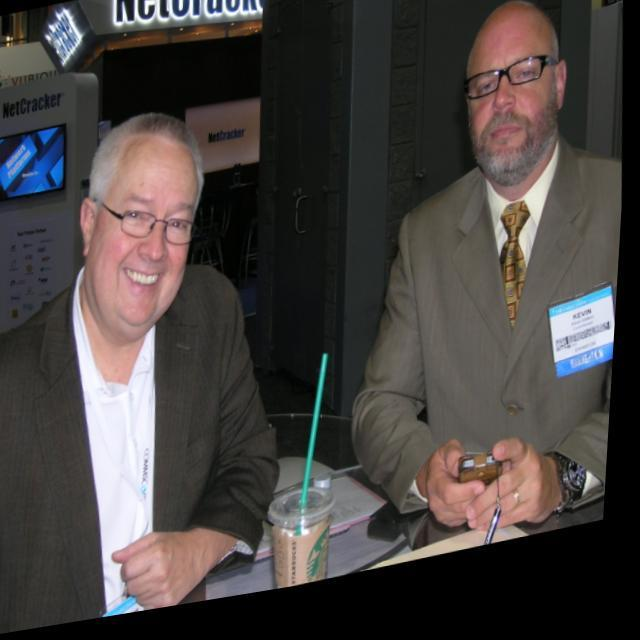Nonhelmet: (77, 108, 208, 338), (453, 0, 584, 191)
